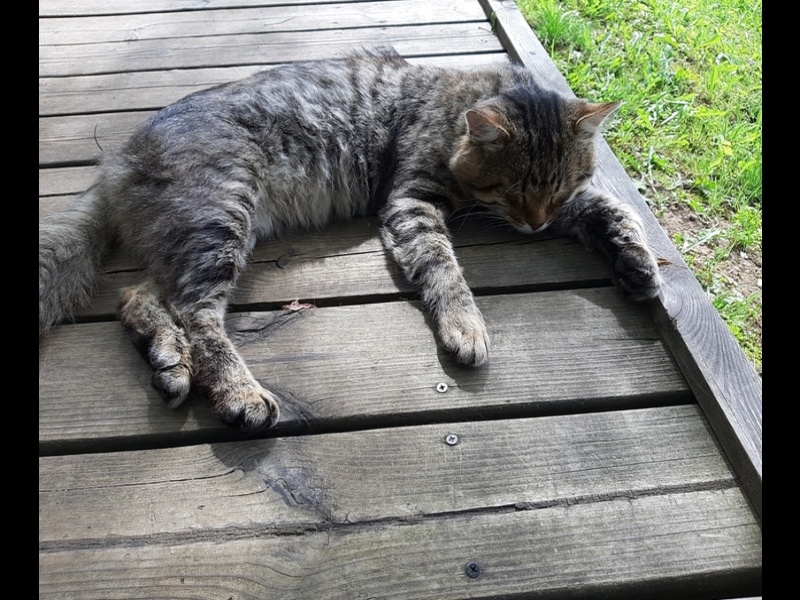cat: (46, 39, 671, 460)
